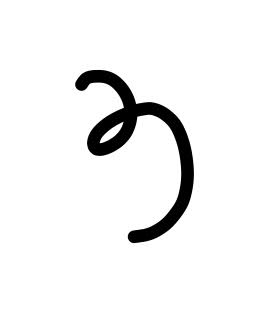n: (78, 103, 210, 161)
